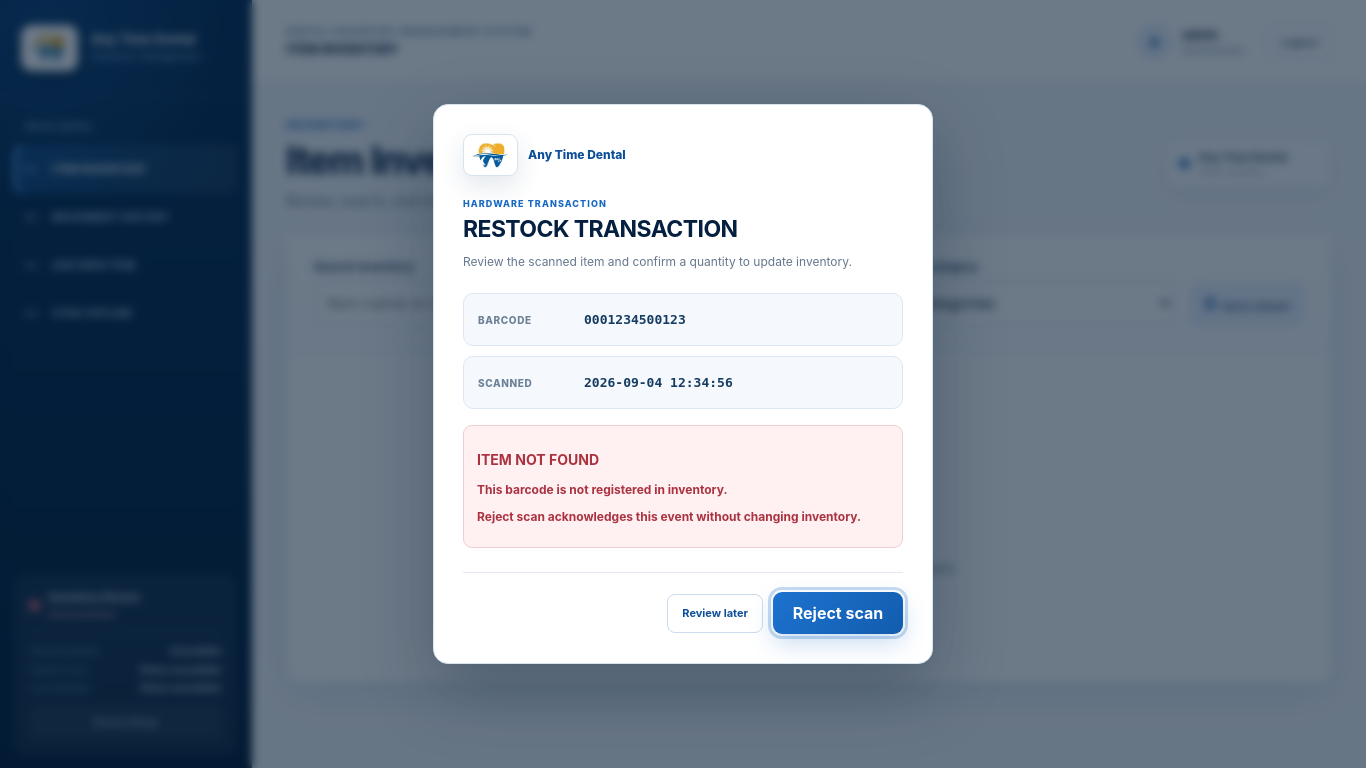
Phase 4 hardware transaction event delivery › shows one unknown restock scan with unchanged barcode and timestamp, and rejects only explicitly
Expected: the text "0001234500123" is shown, [584, 312, 686, 327]
Expected: the text "2026-09-04 12:34:56" is shown, [584, 375, 733, 390]
Click the button "Reject scan".
click(838, 613)  # box [773, 592, 903, 634]
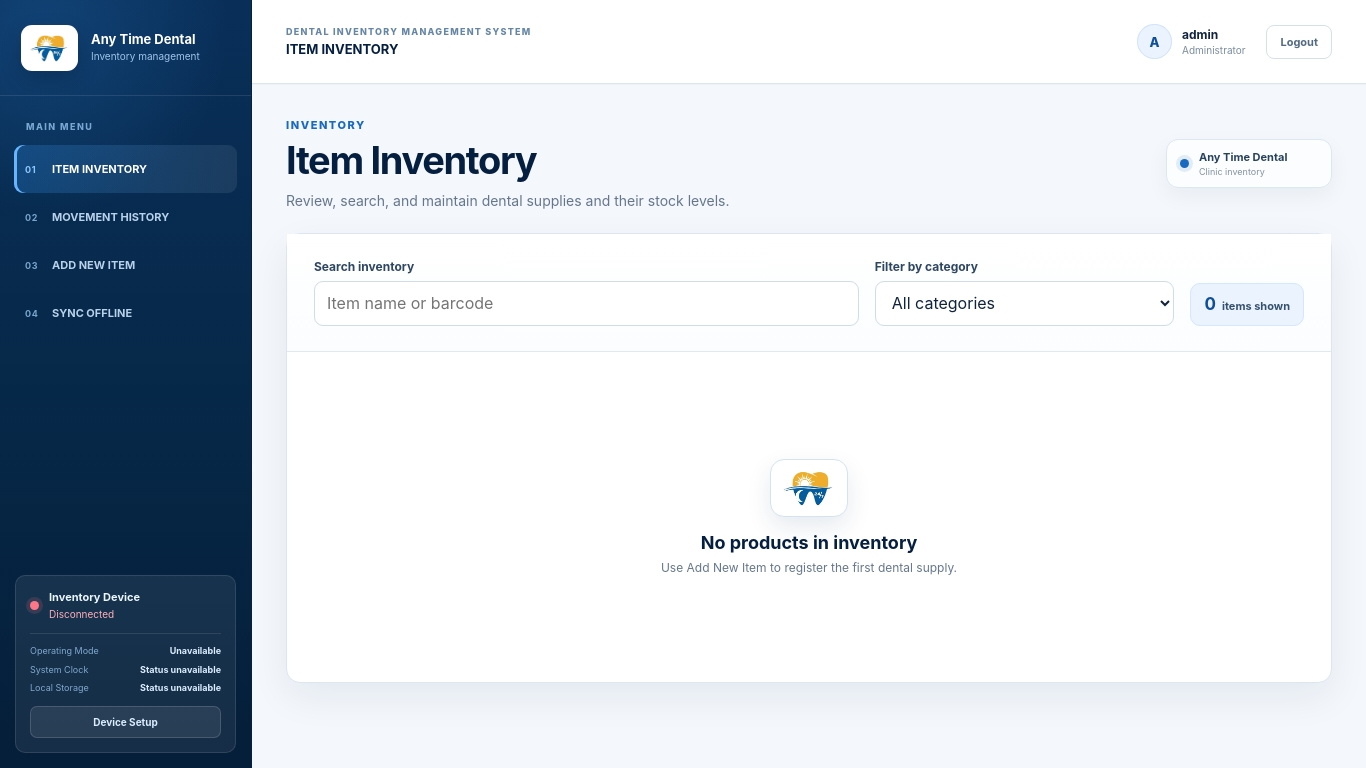
Now the dialog is gone
